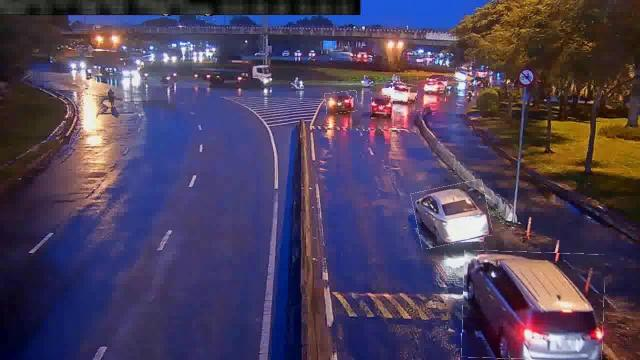Car: (462, 251, 604, 359), (414, 182, 491, 246), (325, 91, 357, 113), (391, 82, 417, 102), (372, 95, 392, 119), (454, 69, 476, 83), (428, 78, 444, 90)
